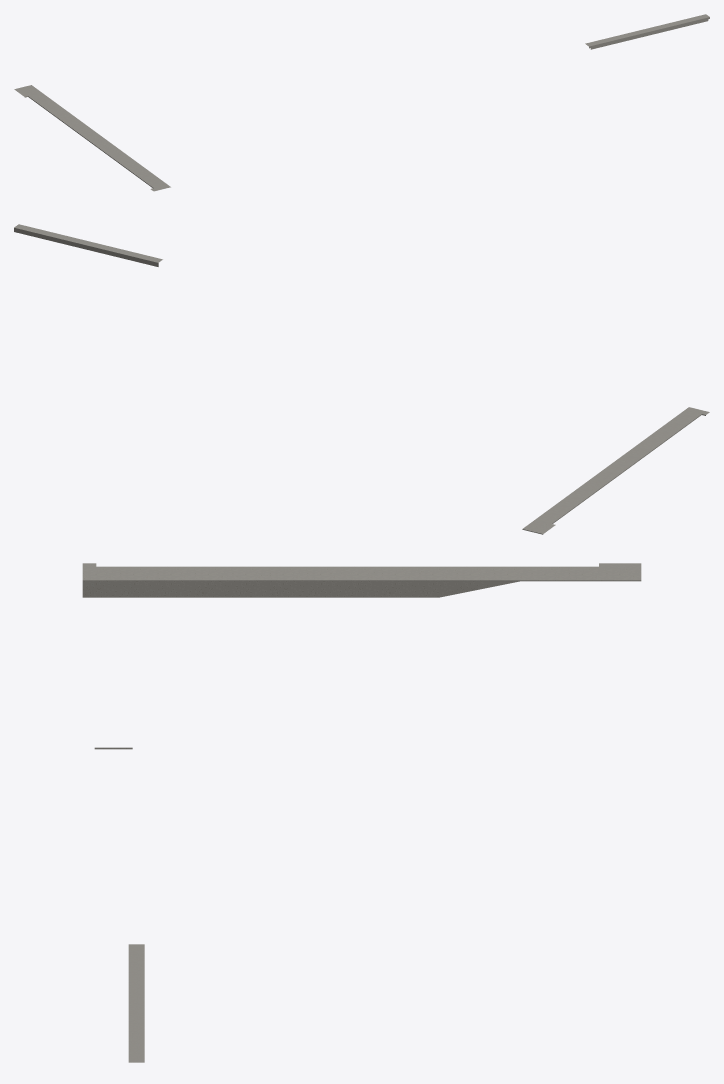
Rendered from kd_stage_135d18_4_119_bounded.glb.
3 views of the same model, one above another, from view 1: azimuth 30°, elevation 25°; view 2: azimuth 150°, elevation 25°; view 3: azimuth 270°, elevation 25° (orthographic). The views are drawn at different scales.
Parts seen in each view (by area): view 1: kd_stage_135d18_4_119_bounded; view 2: kd_stage_135d18_4_119_bounded; view 3: kd_stage_135d18_4_119_bounded.
Part boxes in pixels (x1=…): kd_stage_135d18_4_119_bounded: x1=14, y1=14, x2=709, y2=191; kd_stage_135d18_4_119_bounded: x1=14, y1=224, x2=709, y2=534; kd_stage_135d18_4_119_bounded: x1=82, y1=563, x2=641, y2=1062.
Size of the model in its own units: 16.43 by 1.25 by 7.
1 material, 1 textured.
